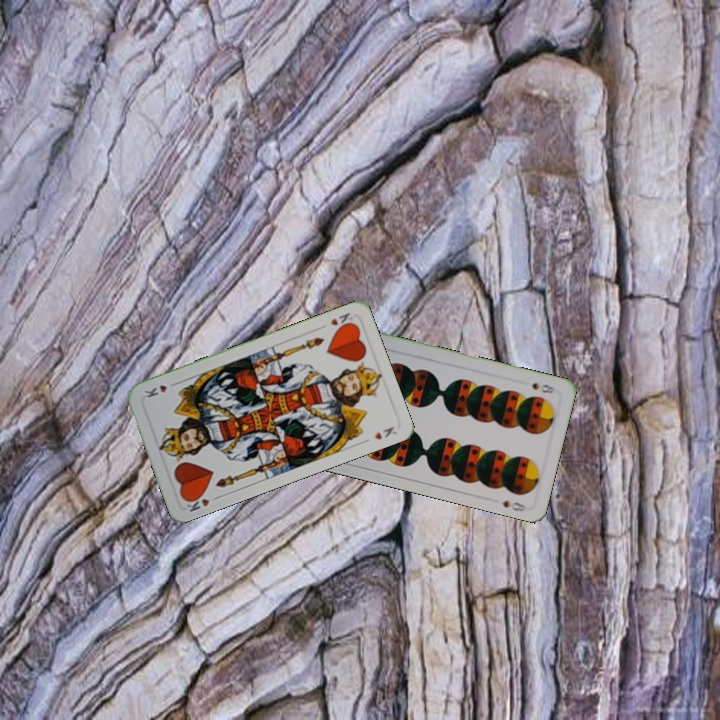HK: (182, 490, 212, 515), (326, 308, 357, 332)
S8: (528, 379, 558, 396)
